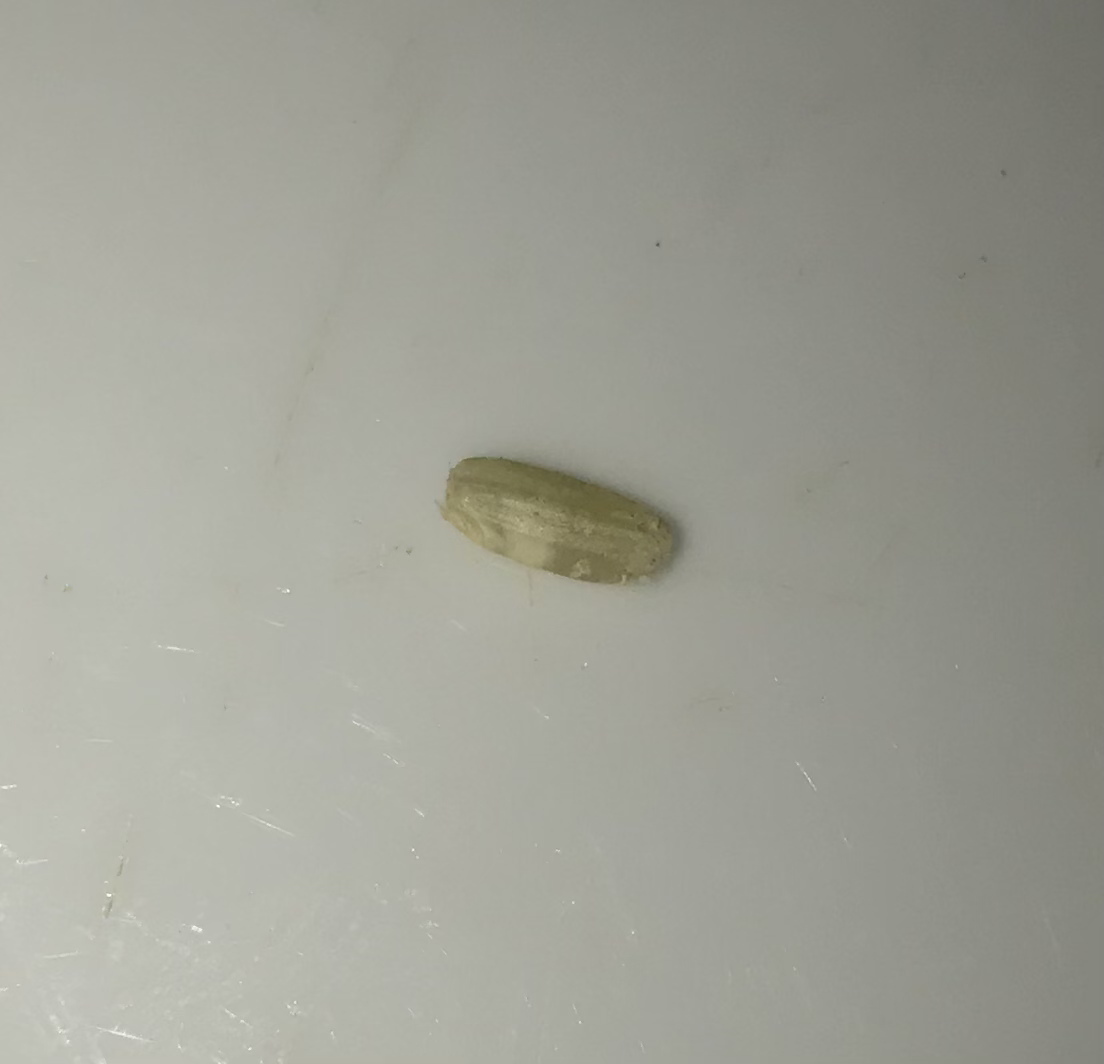Gao Lut Trang: (421, 431, 690, 608)
